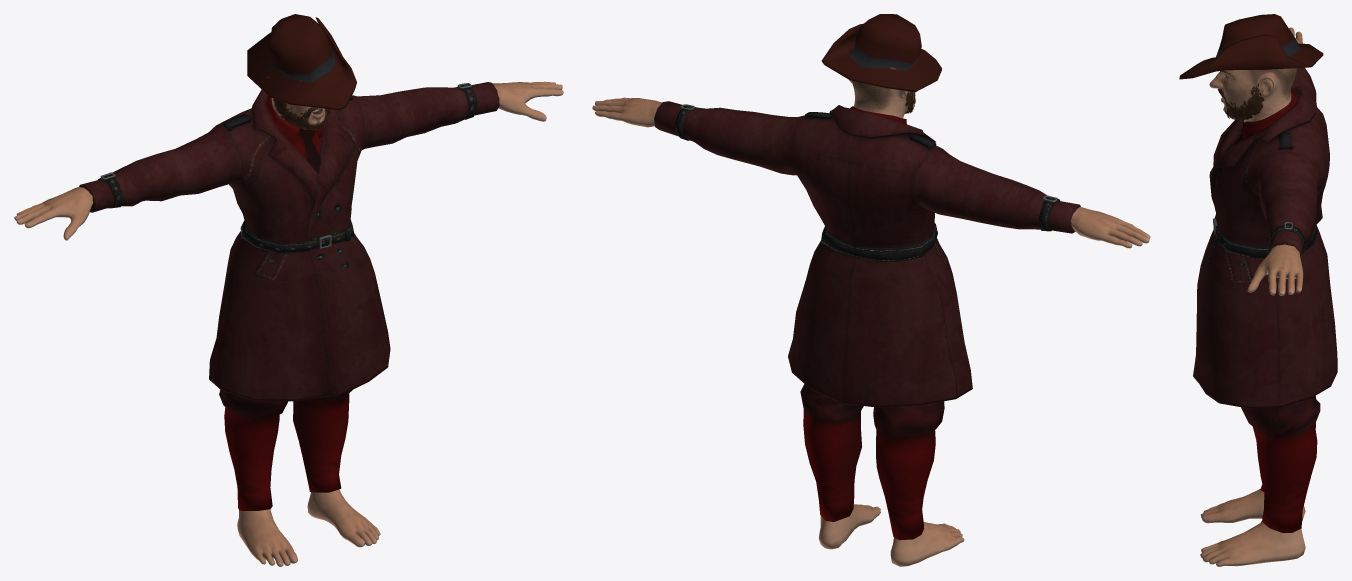
Rendered from Dwarf ranger.obj.
The picture shows the model from 3 angles, left to right: view 1: azimuth 30°, elevation 25°; view 2: azimuth 150°, elevation 25°; view 3: azimuth 270°, elevation 25°; orthographic projection.
Parts seen in each view (by area): view 1: Tops, Bottoms, Body, Hats; view 2: Tops, Bottoms, Body, Hats; view 3: Tops, Body, Bottoms, Hats, Beards.
Part boxes in pixels (x1,y1,x2,y2): Tops: (79,82,499,401); Bottoms: (219,389,352,510); Body: (14,81,563,566); Hats: (247,14,356,110); Tops: (654,101,1080,407); Bottoms: (800,384,944,540); Body: (592,67,1150,566); Hats: (821,14,941,92); Tops: (1193,67,1337,408); Body: (1200,27,1305,566); Bottoms: (1241,396,1320,532); Hats: (1179,14,1323,79); Beards: (1223,83,1264,120).
Size of the model in its own units: 177 by 160 by 43.94.
1 material, 1 textured.
